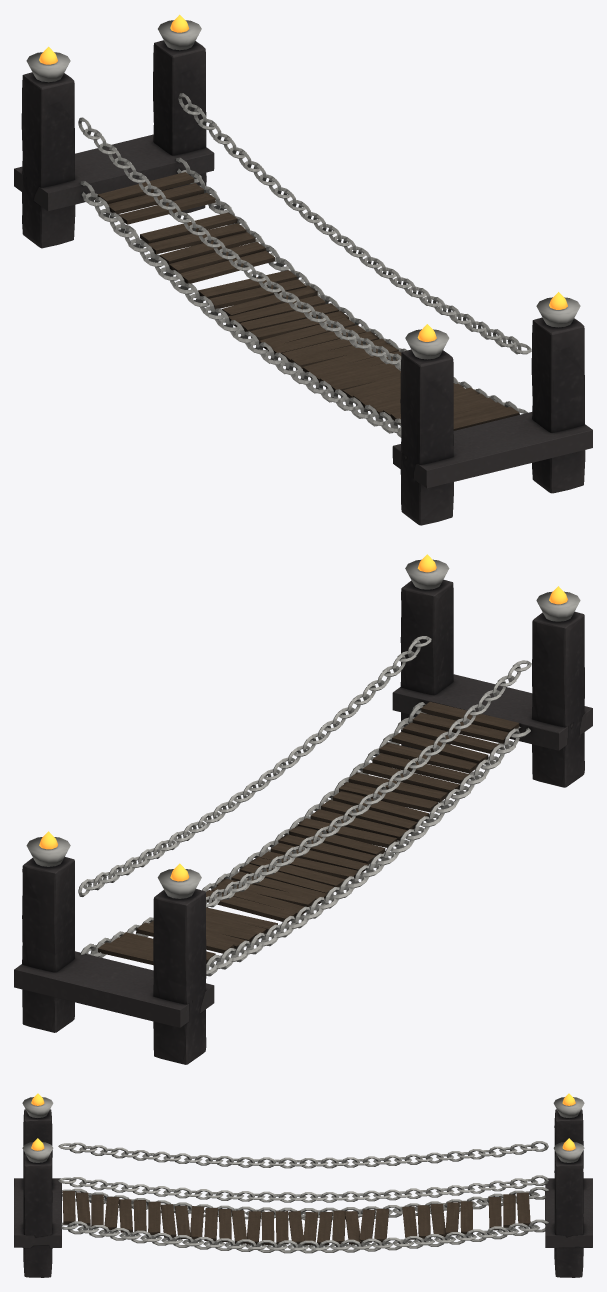
File: escoria_ponte_corrente.glb
3 views of the same model, one above another, from view 1: azimuth 30°, elevation 25°; view 2: azimuth 150°, elevation 25°; view 3: azimuth 270°, elevation 25° (orthographic). The views are drawn at different scales.
Visible parts, largest first — view 1: escoria_ponte_corrente_tronco; view 2: escoria_ponte_corrente_tronco; view 3: escoria_ponte_corrente_tronco.
Part boxes in pixels (left/top/right/bottom): escoria_ponte_corrente_tronco: left=14, top=20, right=592, bottom=525; escoria_ponte_corrente_tronco: left=14, top=559, right=592, bottom=1064; escoria_ponte_corrente_tronco: left=14, top=1097, right=592, bottom=1277.
Size of the model in its own units: 2.84 by 3.08 by 11.99.
5 materials, 1 textured.
